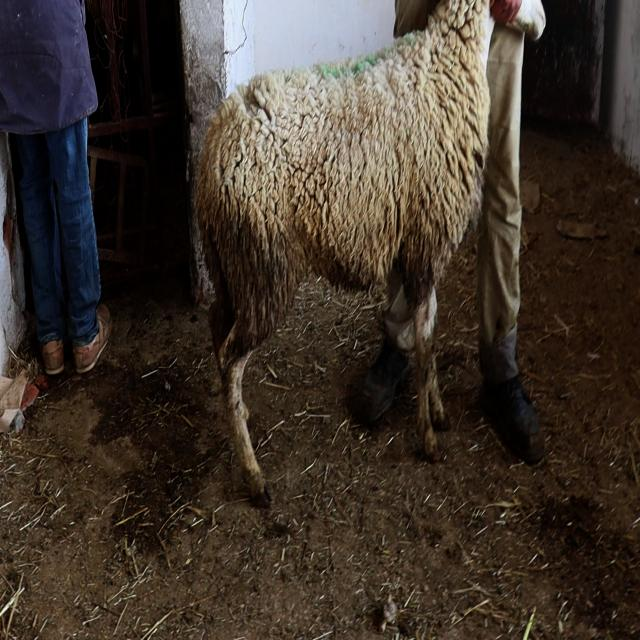Score_3: (196, 0, 494, 504)
